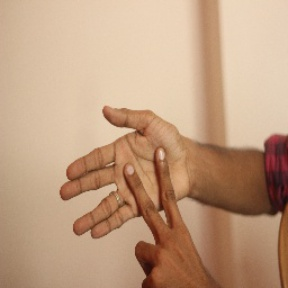N: (50, 101, 205, 287)
